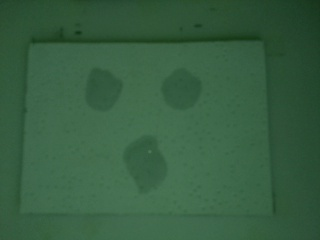Water_detected: (127, 148, 166, 189), (84, 74, 117, 110), (170, 78, 200, 114)
